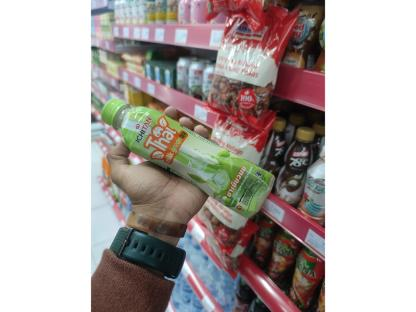Plastic Bottle: (94, 84, 288, 236)
